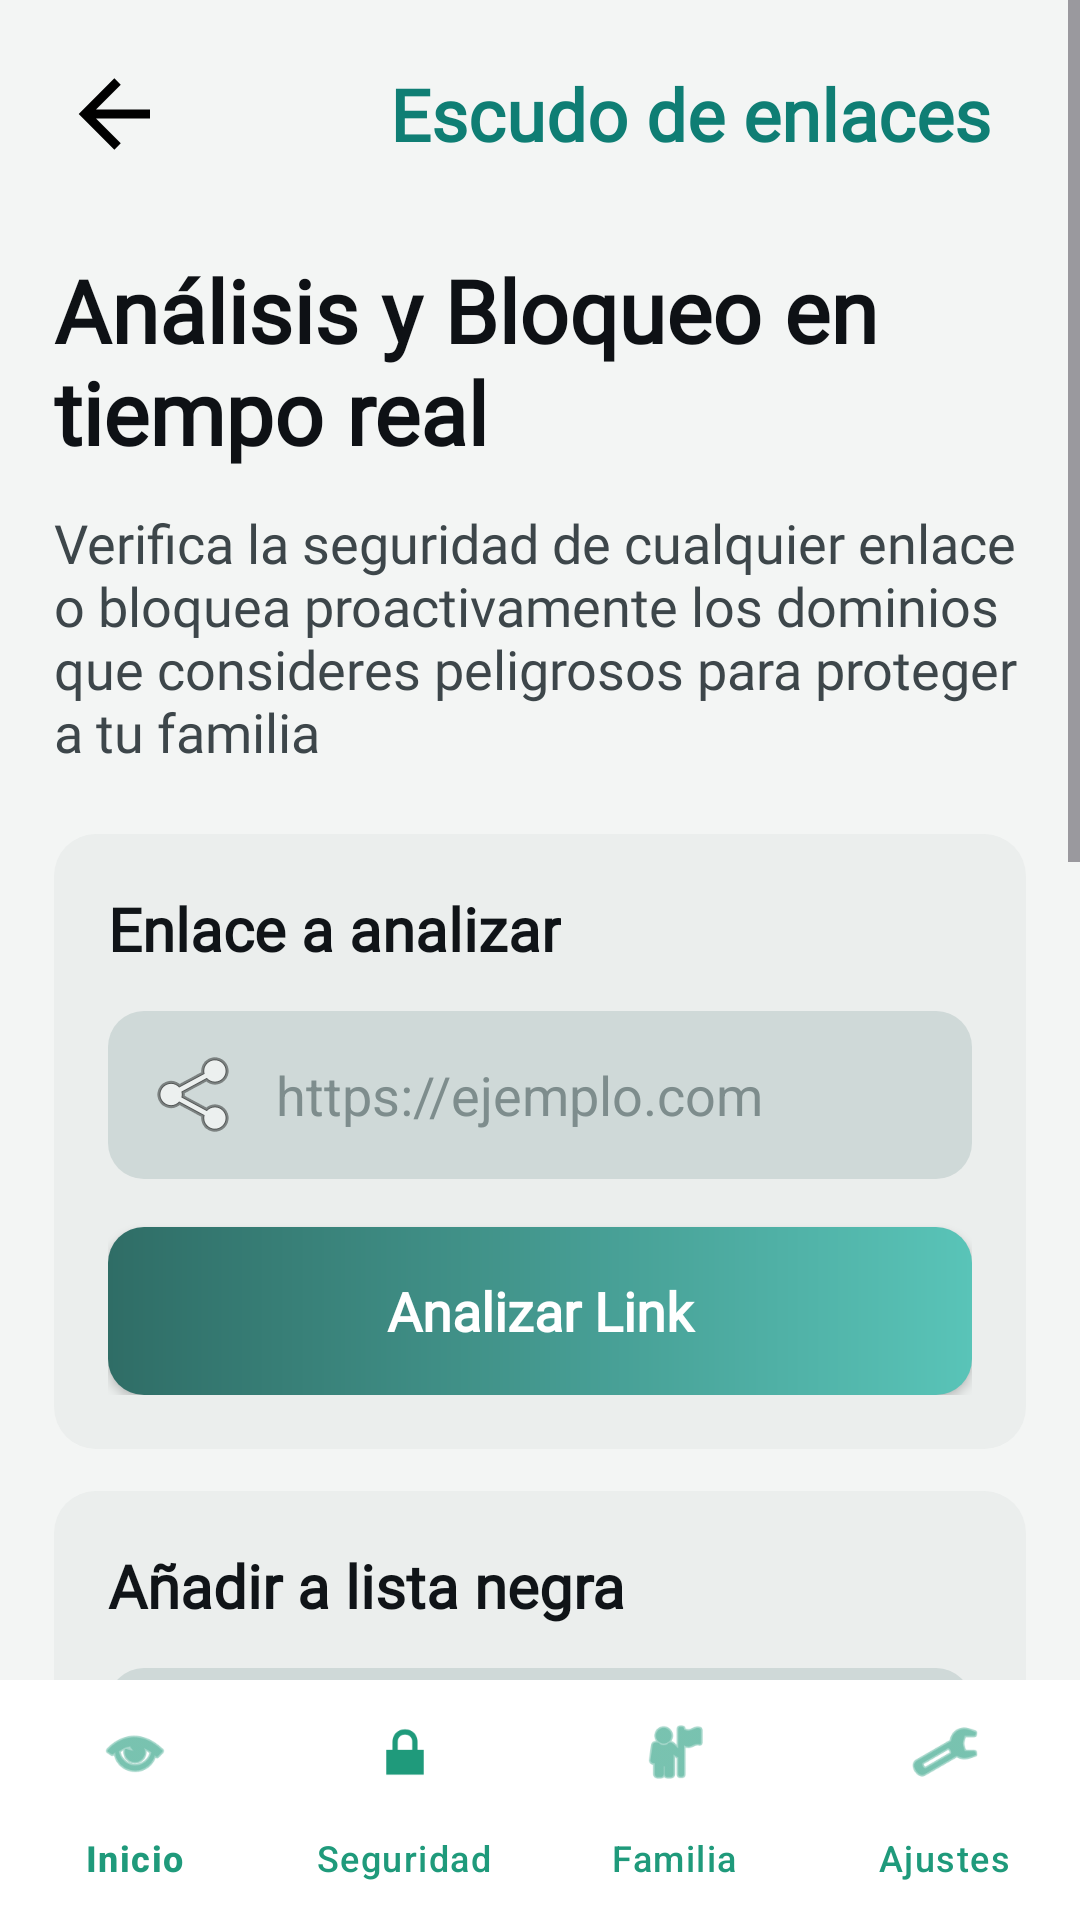

Icon click points for this 1080px x 1920px phone screenshot, format (x=x, y=y):
Volver: (x=114, y=114)
